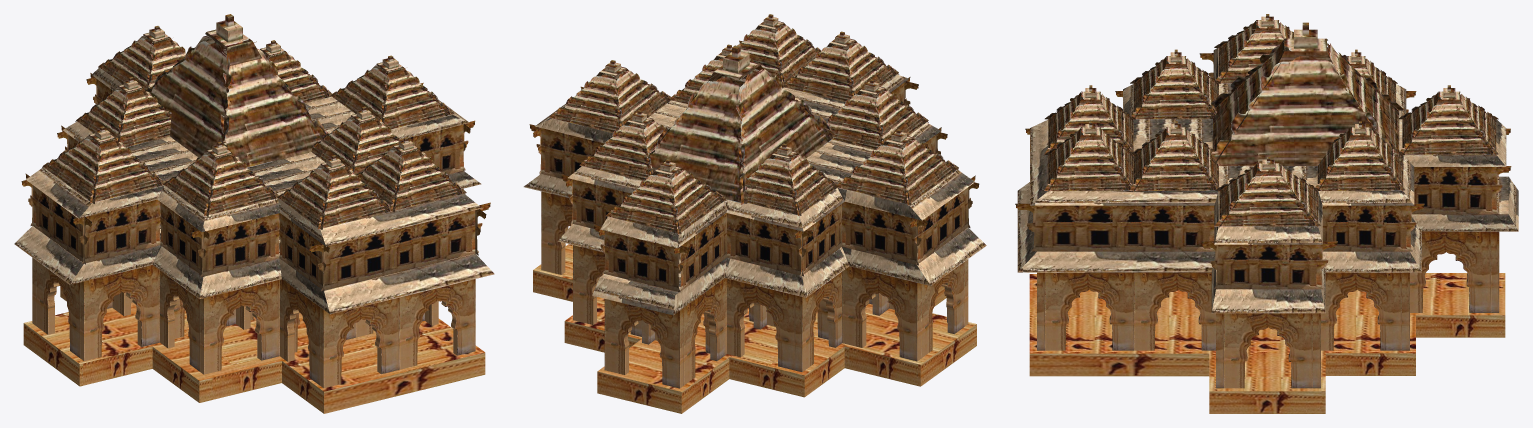
The model's file is Lotus Mahal hampi.fbx.
3 views of the same model, side by side, from view 1: azimuth 30°, elevation 25°; view 2: azimuth 150°, elevation 25°; view 3: azimuth 270°, elevation 25° (orthographic). The views are drawn at different scales.
Visible parts, largest first — view 1: FbxMesh (×47); view 2: FbxMesh (×48); view 3: FbxMesh (×49).
Boxes of the visible parts, <box> form: FbxMesh (×47): <box>14,14,494,413</box>; FbxMesh (×48): <box>523,14,986,413</box>; FbxMesh (×49): <box>1015,22,1518,413</box>.
Size of what is drawn, in the model's own units: 19.71 by 13.18 by 20.52.
Materials: 5 (5 with a texture image).
